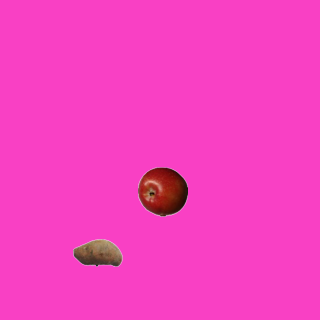Apple Braeburn: (137, 166, 187, 216)
Potato Sweet: (72, 227, 122, 277)
